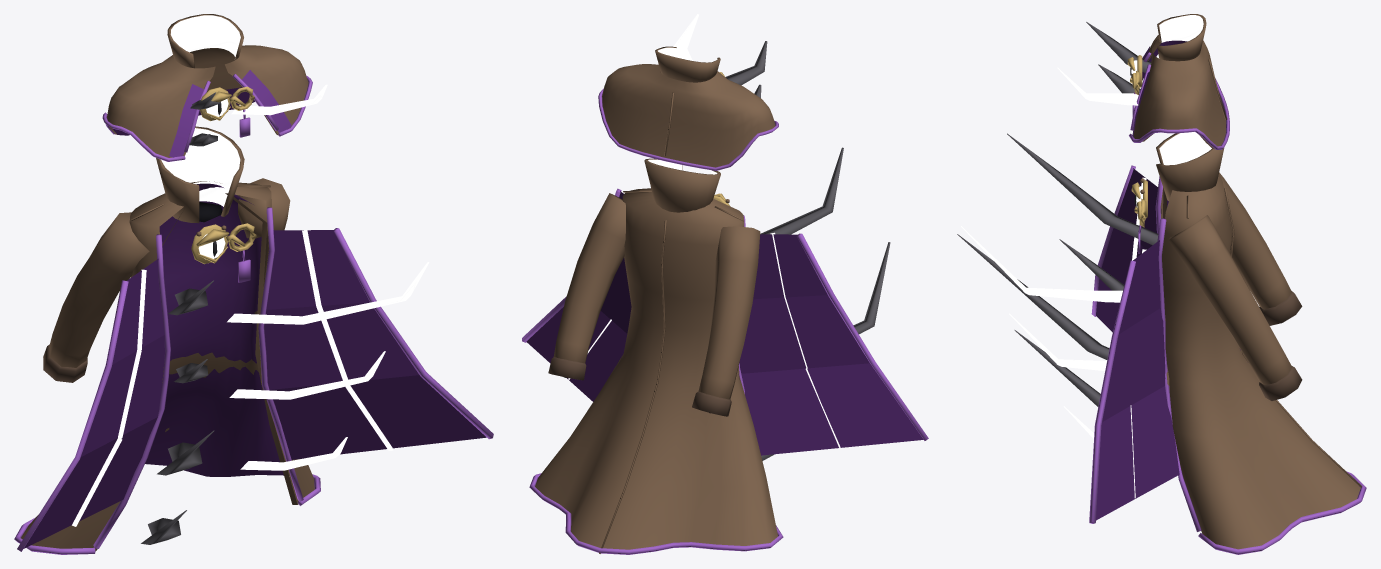
The model's file is coat-storm-lined.glb.
The picture shows the model from 3 angles, left to right: view 1: azimuth 30°, elevation 25°; view 2: azimuth 150°, elevation 25°; view 3: azimuth 270°, elevation 25°; orthographic projection. The views are drawn at different scales.
Visible parts, largest first — view 1: coat-storm-lined, coat-storm-lined_worn; view 2: coat-storm-lined, coat-storm-lined_worn; view 3: coat-storm-lined, coat-storm-lined_worn.
Part boxes in pixels (x1=…): coat-storm-lined: x1=14, y1=126, x2=493, y2=554; coat-storm-lined_worn: x1=102, y1=14, x2=327, y2=161; coat-storm-lined: x1=522, y1=147, x2=928, y2=554; coat-storm-lined_worn: x1=598, y1=14, x2=778, y2=170; coat-storm-lined: x1=957, y1=132, x2=1366, y2=554; coat-storm-lined_worn: x1=1057, y1=14, x2=1229, y2=149.
Bounding box in the file's own units: 2.1 × 2.16 × 1.72.
